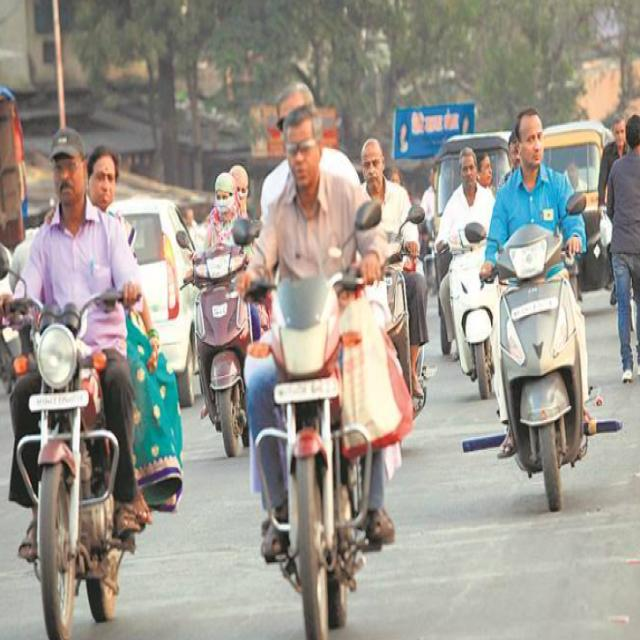WithoutHelmet: (241, 101, 393, 562), (8, 128, 151, 566), (478, 105, 594, 461), (349, 138, 429, 406), (184, 172, 251, 397), (433, 145, 495, 355)
